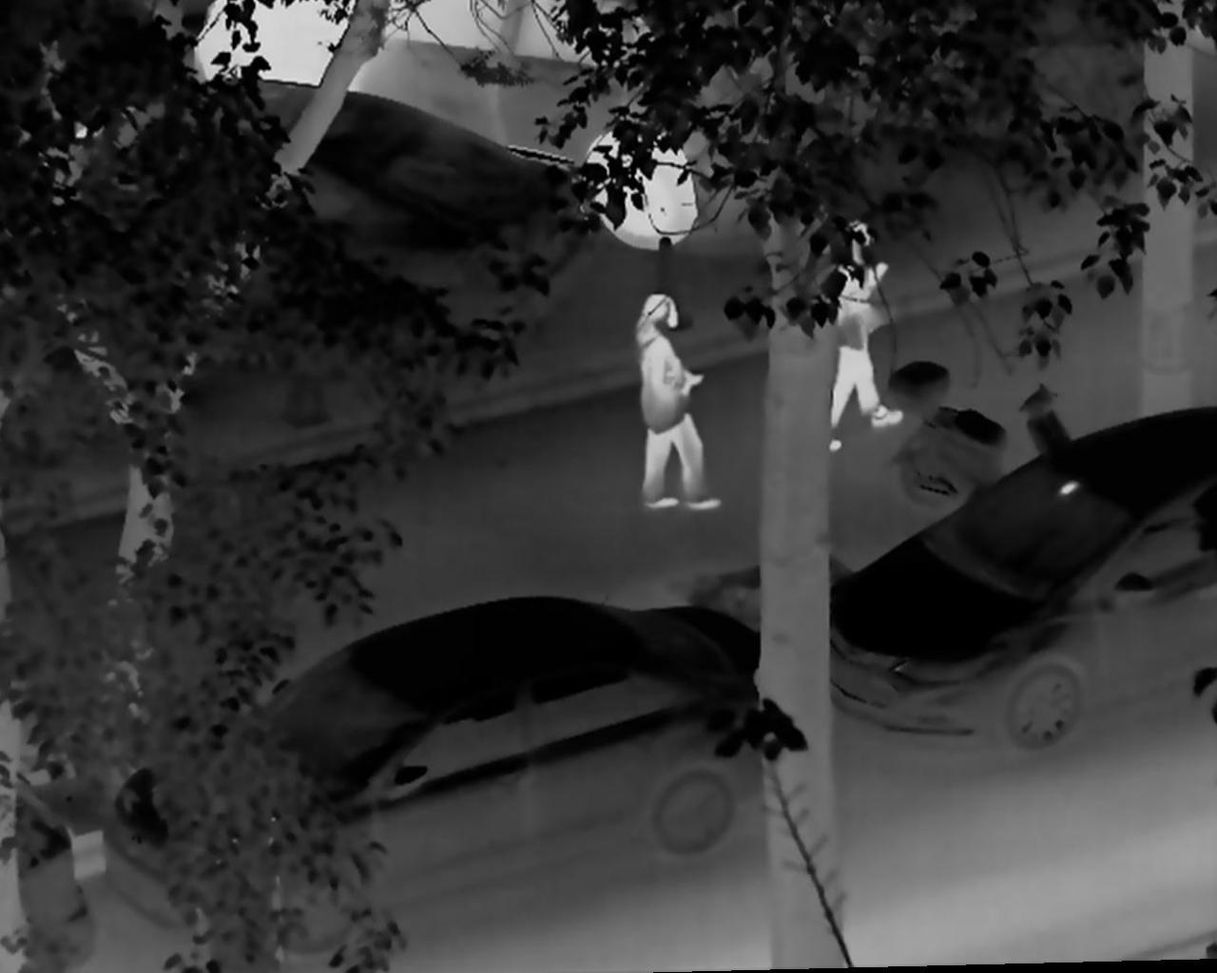person: (616, 293, 724, 522), (826, 220, 905, 455)
